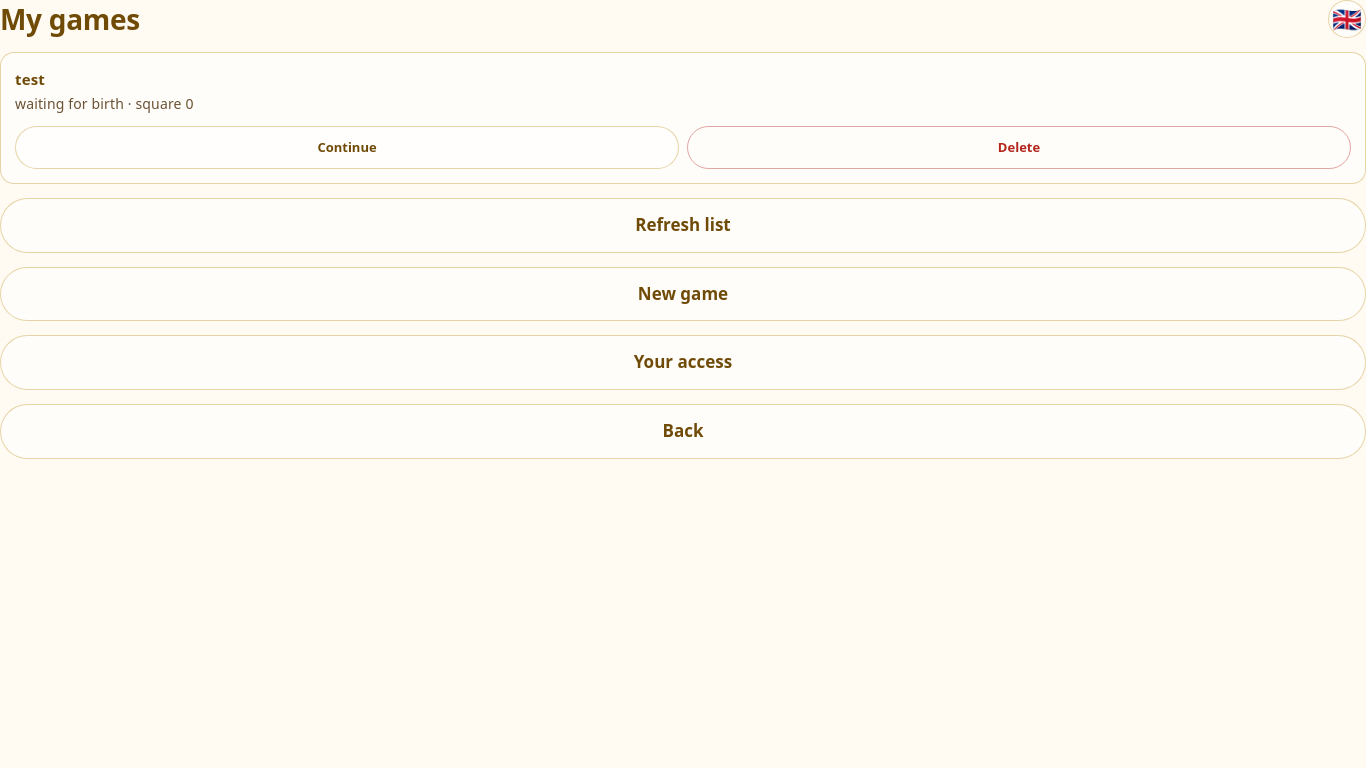
requires confirmation, preserves the row on failure and allows retry (en)
This screenshot has width=1366, height=768.
Click the button "Delete" at {"x": 1019, "y": 148}, box [687,126,1351,169]
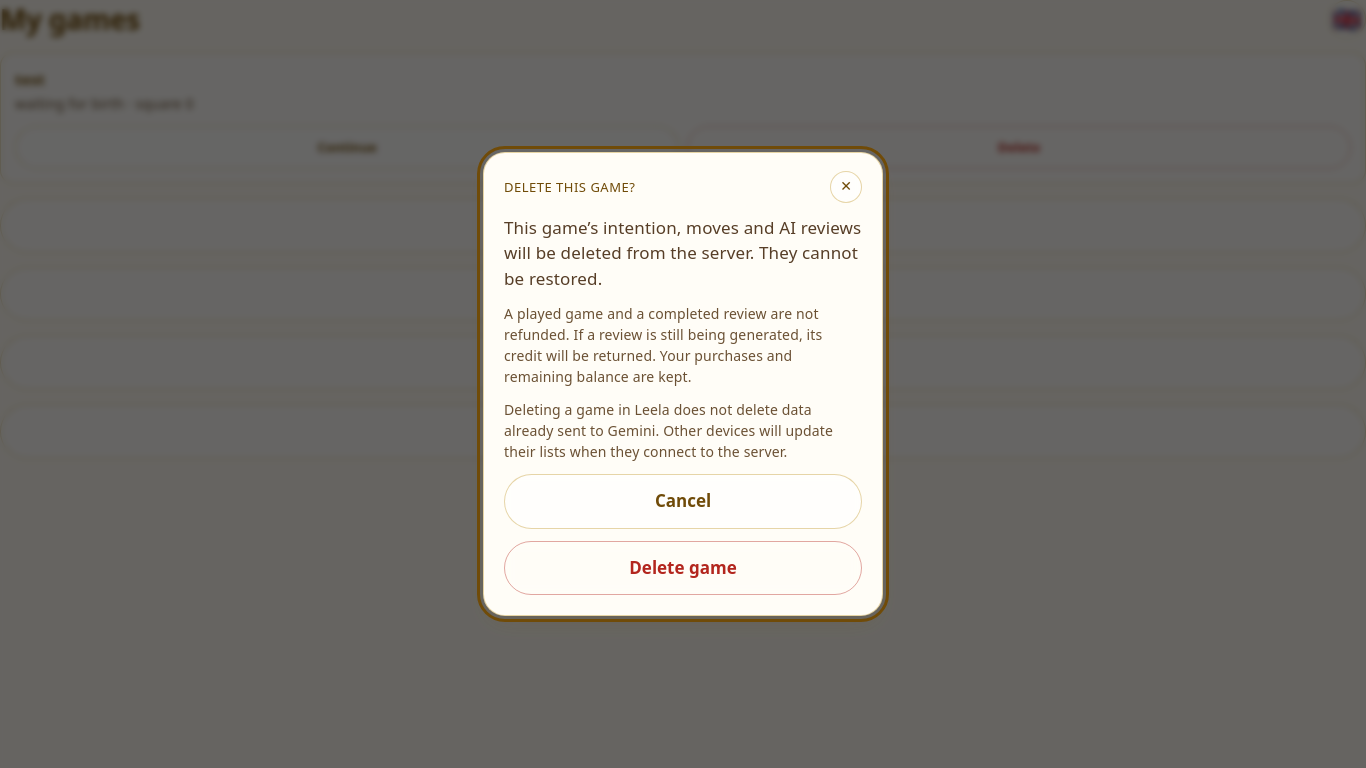
Expected: the dialog shows "cannot be restored", [504,216,861,290]
Click the button "Delete game" at {"x": 683, "y": 568}, box [504,541,862,596]
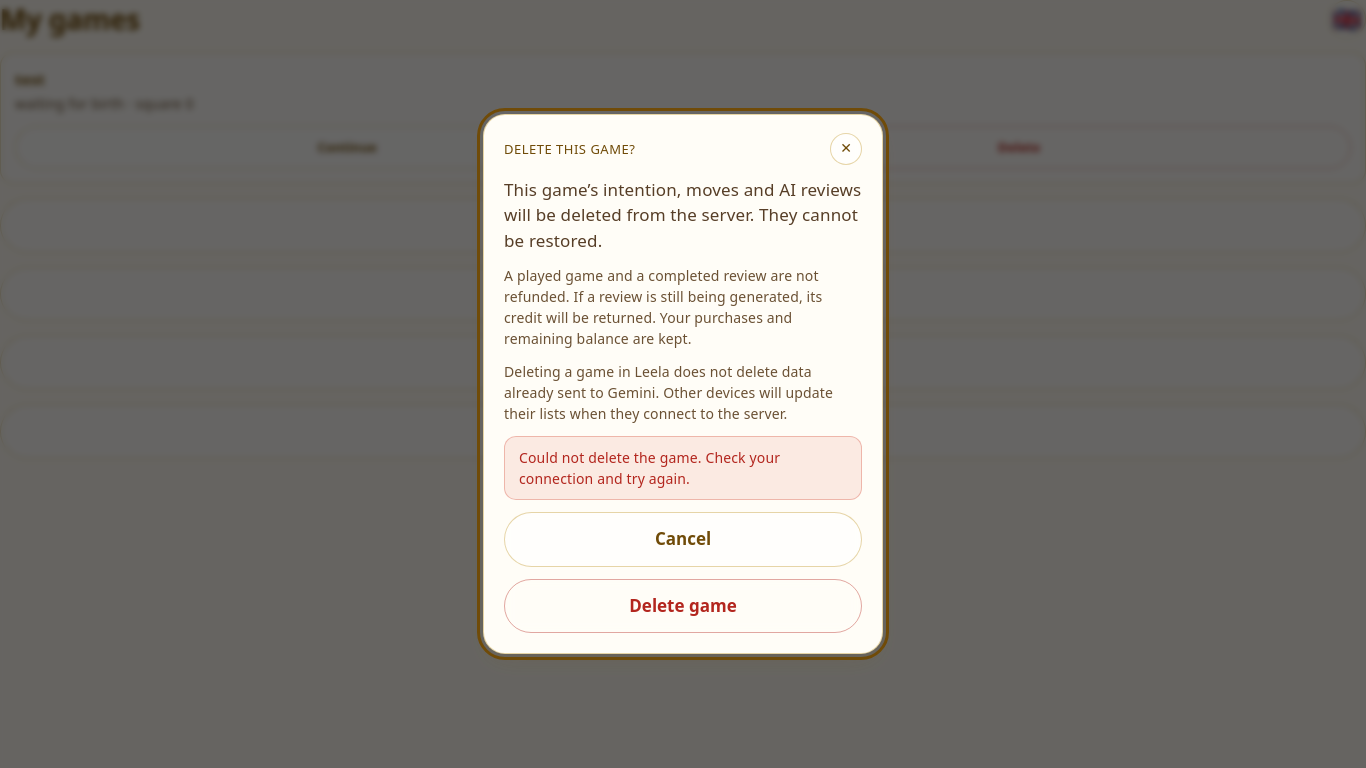
Expected: the list item with class "game-list-item" is shown, [0,52,1365,184]
Expected: the message "Could not delete the game. Check your connection and try again." is shown, [504,436,862,500]
Click the button "Delete game" at {"x": 683, "y": 606}, box [504,579,862,634]
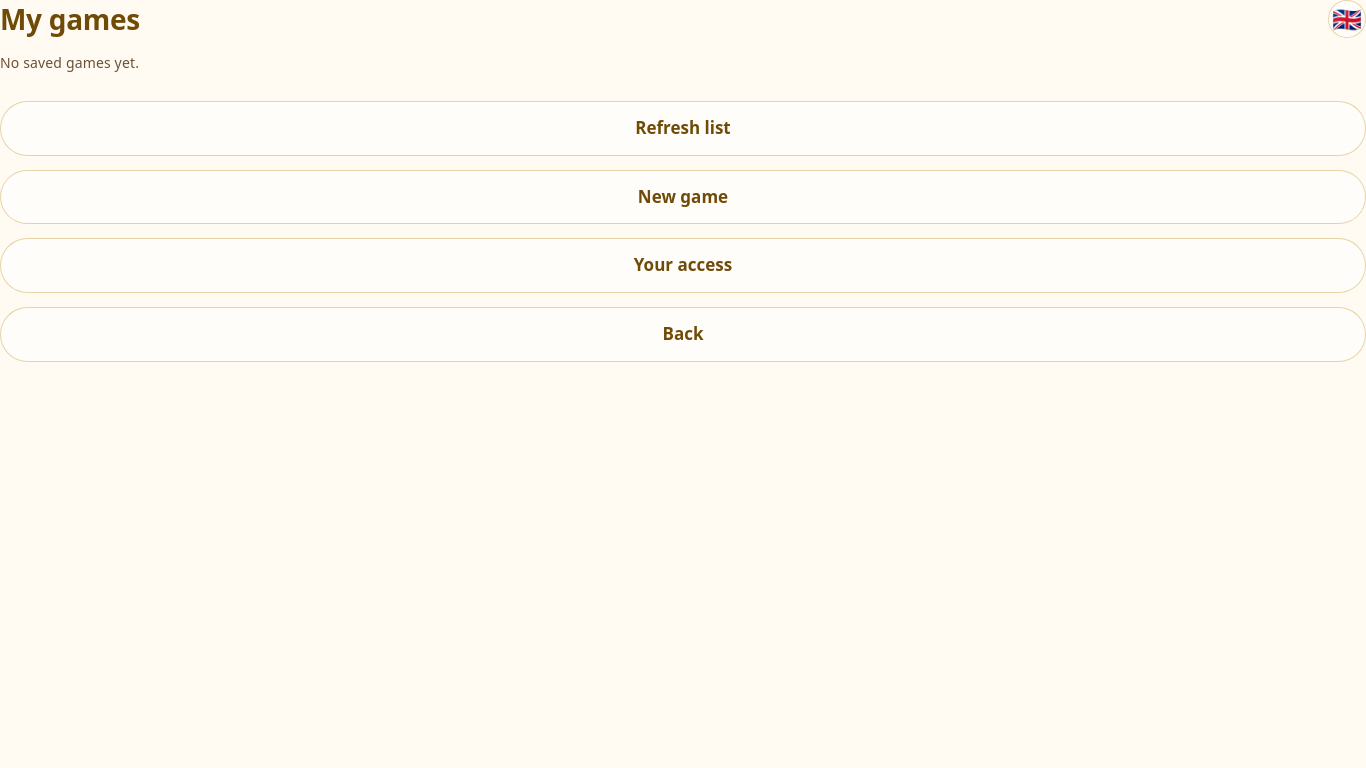
Expected: the list item with class "game-list-item" is gone
Expected: the dialog is gone
